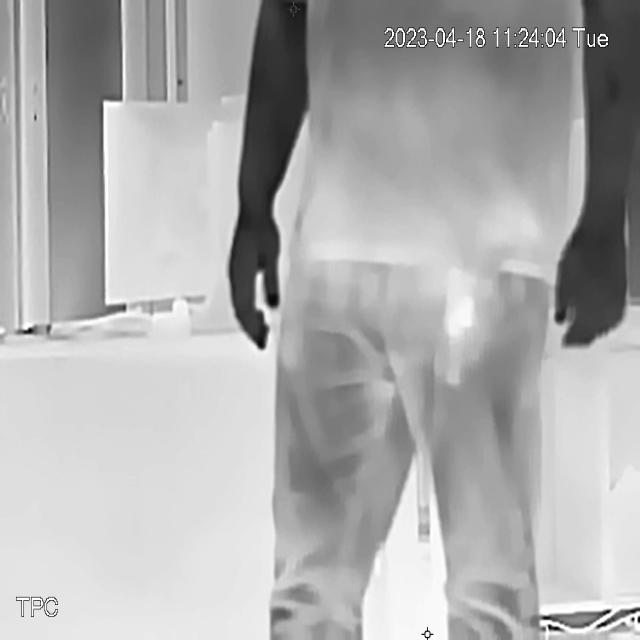Weapon: (436, 206, 542, 415)
